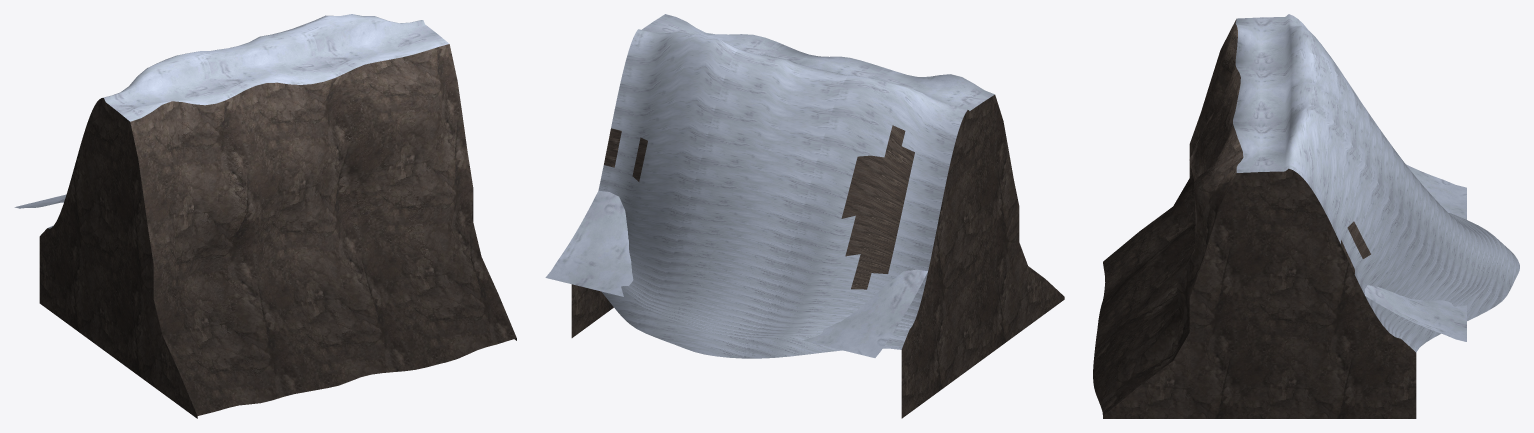
File: seacliff_straight6b_h3_v5_winter.glb
3 views of the same model, side by side, from view 1: azimuth 30°, elevation 25°; view 2: azimuth 150°, elevation 25°; view 3: azimuth 270°, elevation 25° (orthographic). The views are drawn at different scales.
Visible parts, largest first — view 1: seacliff_straight6b_h3; view 2: seacliff_straight6b_h3; view 3: seacliff_straight6b_h3.
Part boxes in pixels (left/top/right/bottom): seacliff_straight6b_h3: left=14, top=14, right=516, bottom=418; seacliff_straight6b_h3: left=545, top=14, right=1064, bottom=418; seacliff_straight6b_h3: left=1093, top=14, right=1519, bottom=418.
Size of the model in its own units: 6 by 4.87 by 7.
Materials: 2 (2 with a texture image).
